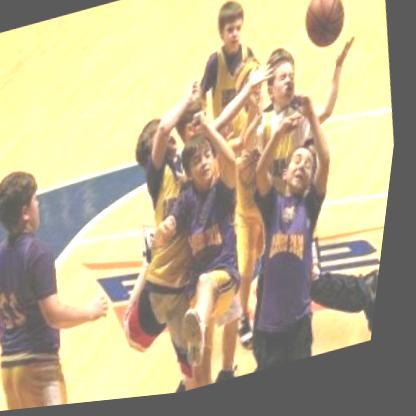basketball: (297, 0, 355, 61)
